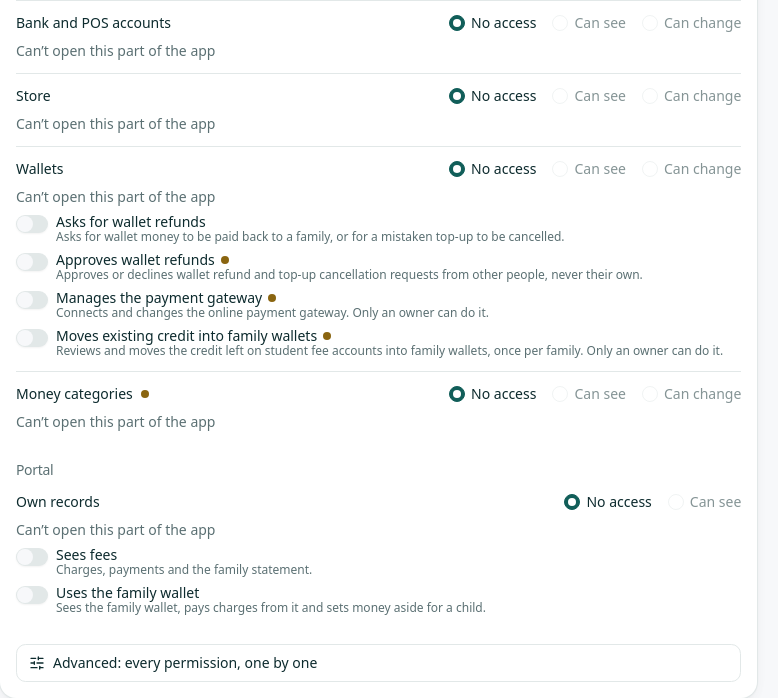
Test: RolePage Advanced grid › strikes through and disables a permission the editor does not hold
(page scrolled)
Click the button "Advanced: every permission, one by one".
click(185, 662)  # box top-left (17, 645), bottom-right (740, 681)
(page scrolled)
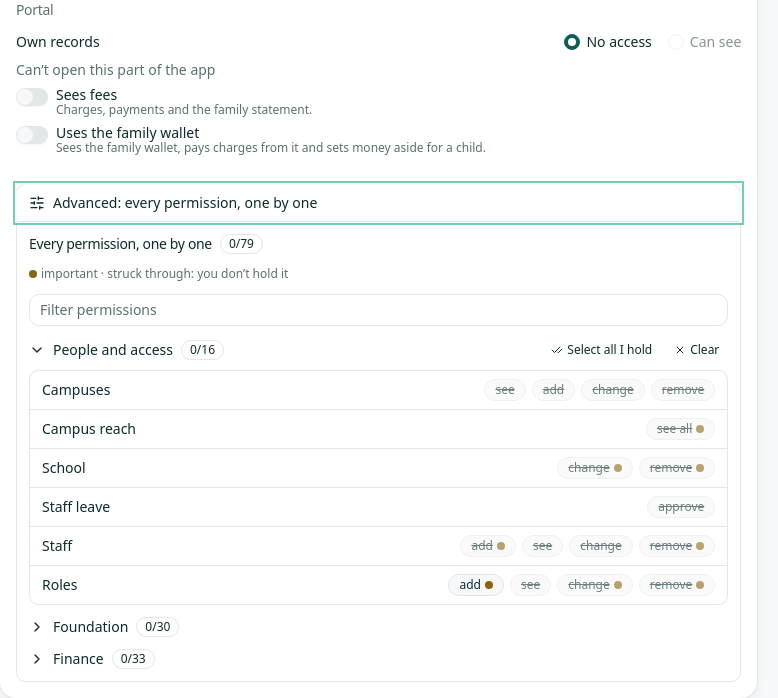
Click the button "Foundation 0/30".
click(104, 627)  # box top-left (29, 617), bottom-right (179, 637)
(page scrolled)
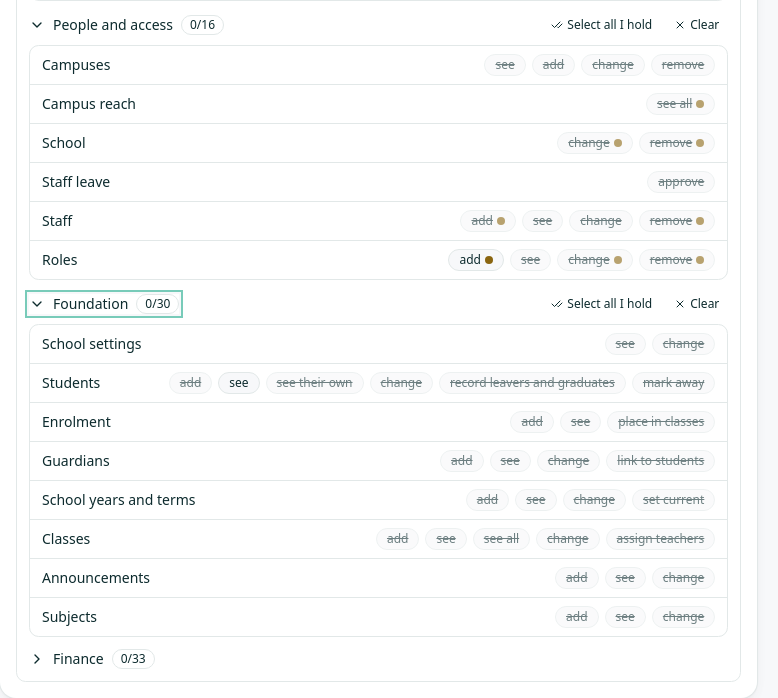
Check: the button with aria-label "Students: add" is disabled, box top-left (169, 372), bottom-right (212, 394)
Check: the button with aria-label "Students: see" is enabled, box top-left (218, 372), bottom-right (260, 394)
